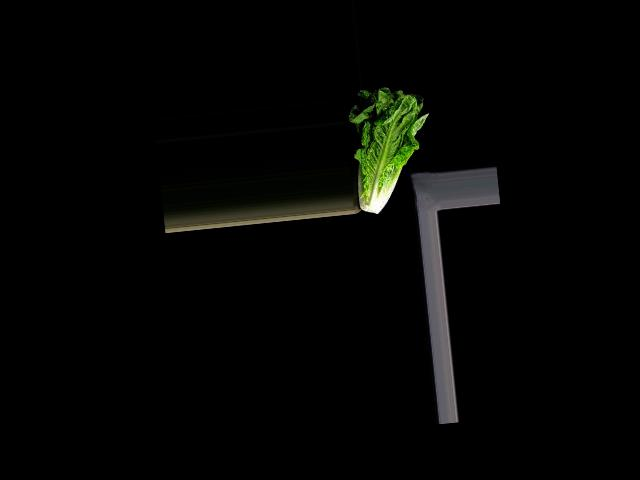lettuce: (350, 88, 433, 213)
